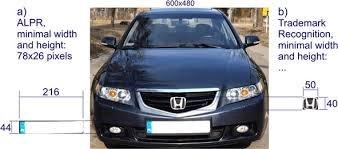Liscence Plate: (147, 120, 215, 138)
